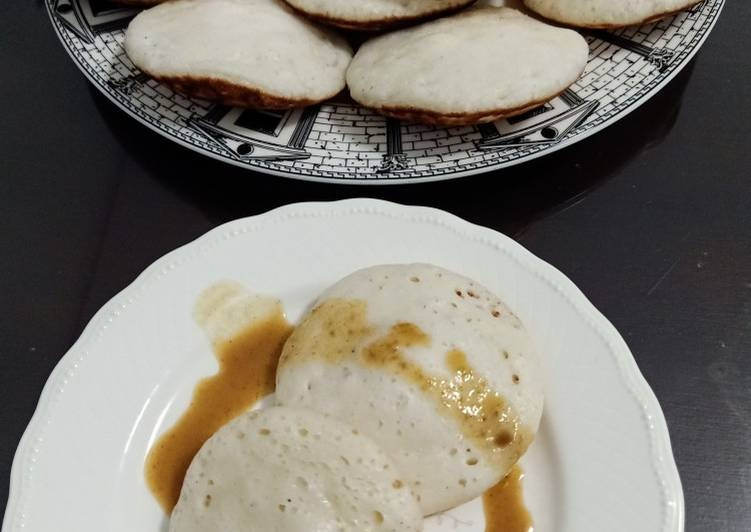srabi: (225, 248, 556, 513)
